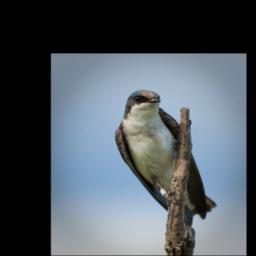Swallow: (115, 89, 218, 228)
